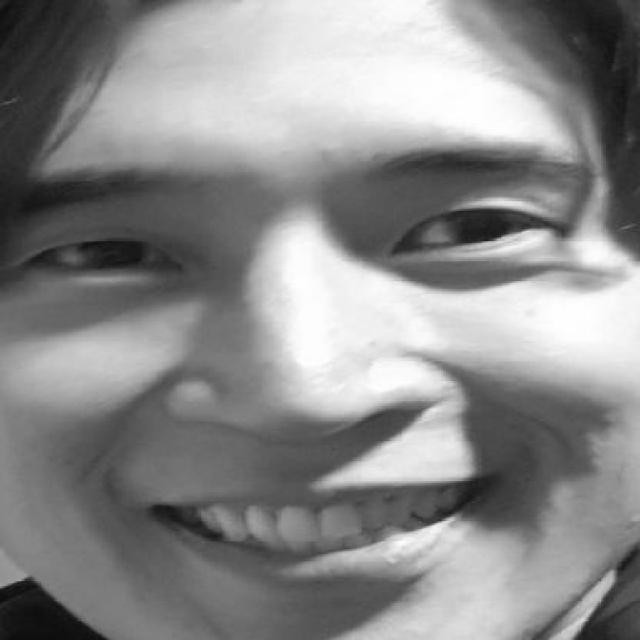happy: (15, 132, 640, 610)
